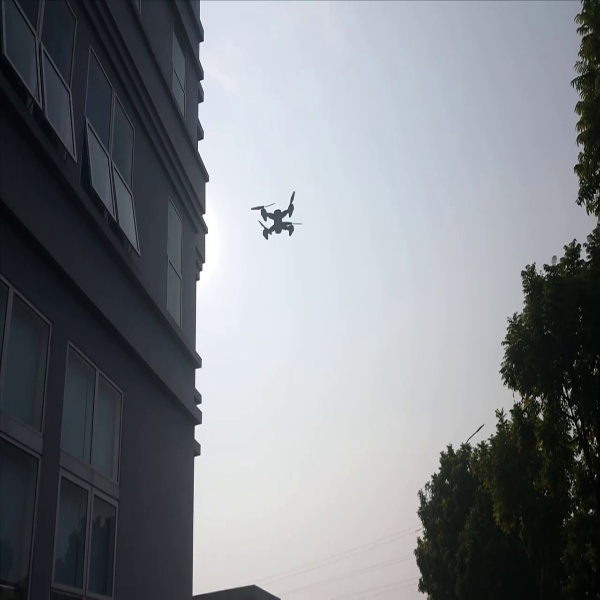drone: (238, 178, 305, 248)
